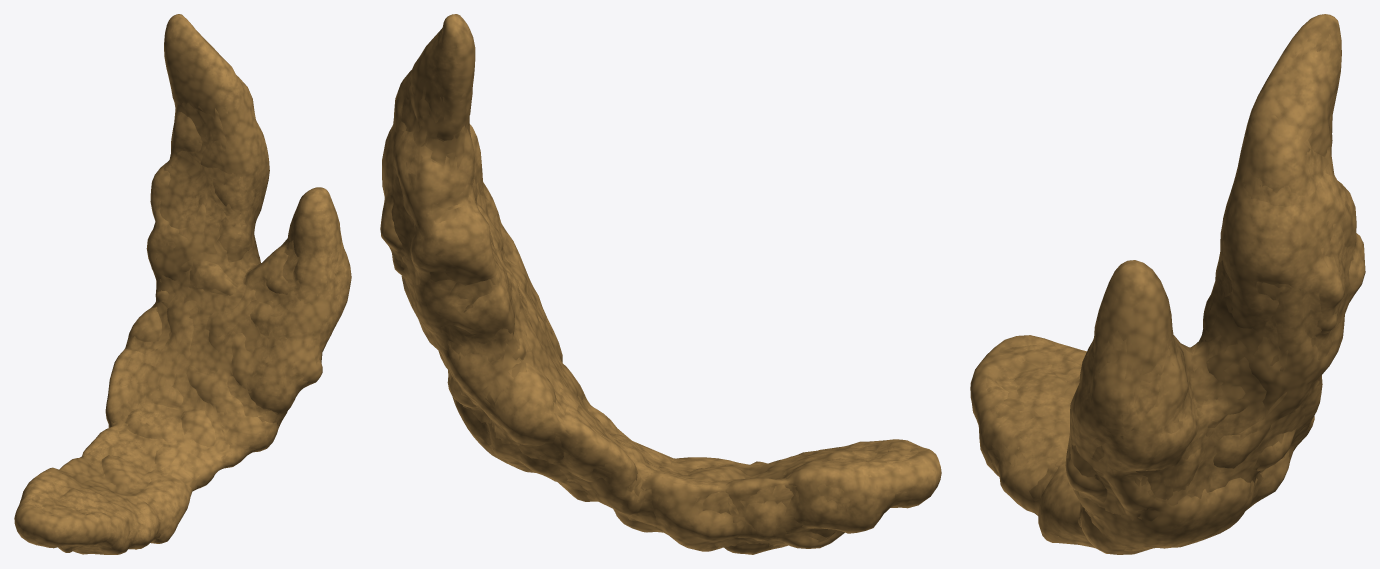
The model's file is Pancreas.fbx.
3 renders of one model, left to right at view 1: azimuth 30°, elevation 25°; view 2: azimuth 150°, elevation 25°; view 3: azimuth 270°, elevation 25°, orthographic. The views are drawn at different scales.
Parts seen in each view (by area): view 1: Pancreas high, Pancreas low, Pancreas; view 2: Pancreas high, Pancreas low, Pancreas; view 3: Pancreas high, Pancreas low, Pancreas.
Boxes of the visible parts, bbox=[...] form: Pancreas high: bbox=[14, 14, 351, 554]; Pancreas low: bbox=[32, 102, 345, 552]; Pancreas: bbox=[24, 31, 347, 553]; Pancreas high: bbox=[380, 14, 941, 554]; Pancreas low: bbox=[388, 28, 918, 546]; Pancreas: bbox=[384, 28, 926, 550]; Pancreas high: bbox=[970, 14, 1365, 554]; Pancreas low: bbox=[994, 37, 1354, 551]; Pancreas: bbox=[975, 30, 1358, 551].
Bounding box in the file's own units: 19 × 21.55 × 12.68.
